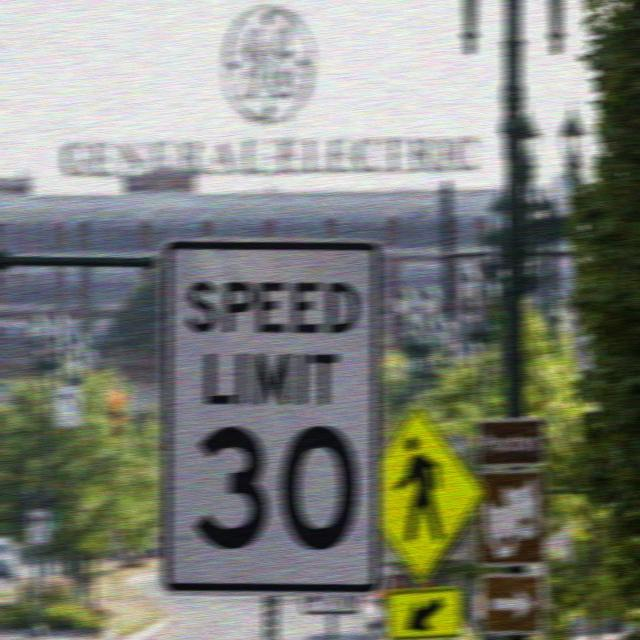speedLimit30: (156, 235, 385, 600)
